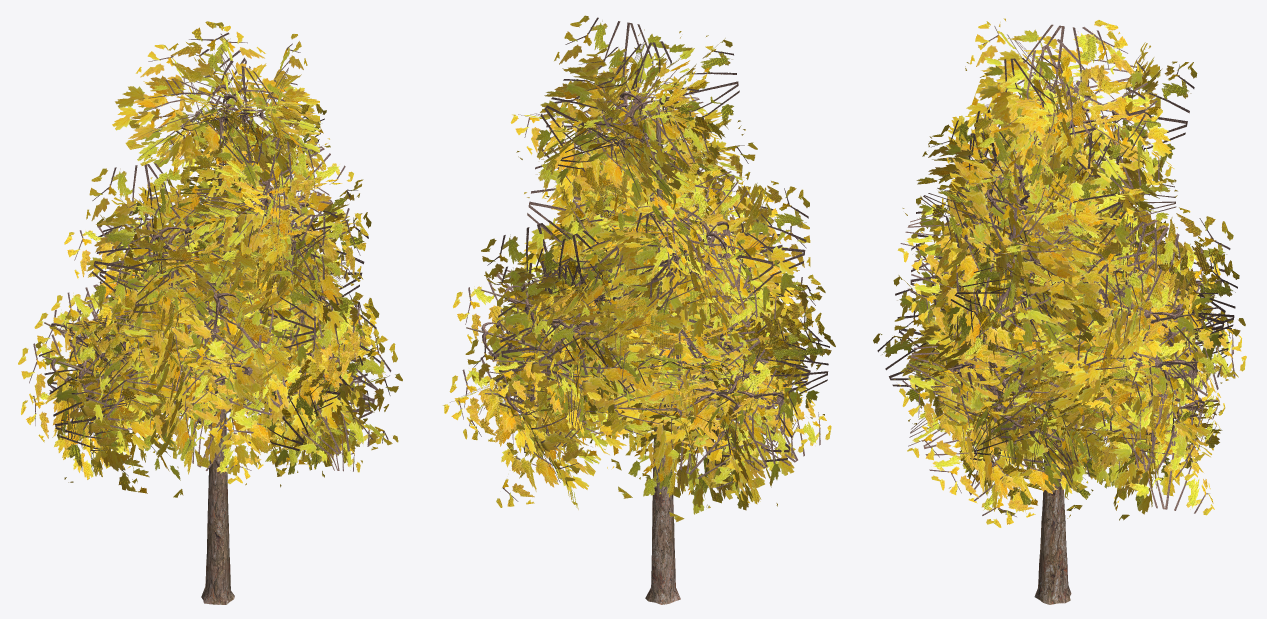
The model's file is maple_1_obj.fbx.
3 renders of one model, left to right at view 1: azimuth 30°, elevation 25°; view 2: azimuth 150°, elevation 25°; view 3: azimuth 270°, elevation 25°, orthographic. The views are drawn at different scales.
Visible parts, largest first — view 1: Tree_1, Tree_0, Tree_2; view 2: Tree_1, Tree_0, Tree_2; view 3: Tree_1, Tree_0, Tree_2.
Part boxes in pixels (bbox=[...]): Tree_1: bbox=[18, 21, 402, 497]; Tree_0: bbox=[42, 92, 359, 604]; Tree_2: bbox=[50, 84, 351, 403]; Tree_1: bbox=[443, 15, 835, 521]; Tree_0: bbox=[466, 92, 782, 604]; Tree_2: bbox=[481, 92, 784, 431]; Tree_1: bbox=[873, 18, 1246, 527]; Tree_0: bbox=[947, 82, 1220, 604]; Tree_2: bbox=[935, 79, 1204, 443].
Size of the model in its own units: 67.72 by 109 by 65.1.
3 materials, 3 textured.
